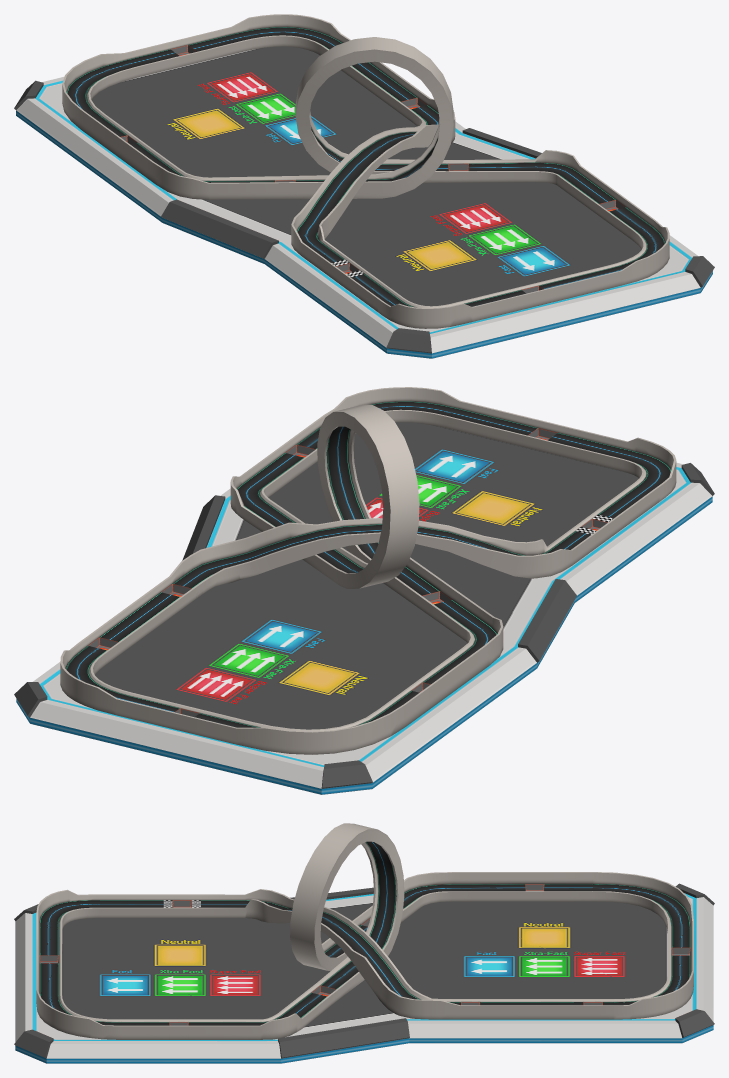
File: Racetrack.fbx
3 renders of one model, top to bottom at view 1: azimuth 30°, elevation 25°; view 2: azimuth 150°, elevation 25°; view 3: azimuth 270°, elevation 25°, orthographic. The views are drawn at different scales.
Parts seen in each view (by area): view 1: RaceTrack; view 2: RaceTrack; view 3: RaceTrack.
Boxes of the visible parts, x1,y1,x2,y2 form: RaceTrack: [14, 14, 714, 358]; RaceTrack: [14, 387, 714, 794]; RaceTrack: [14, 823, 714, 1063].
Bounding box in the file's own units: 647 × 270 × 1143.
Materials: 1 (1 with a texture image).
